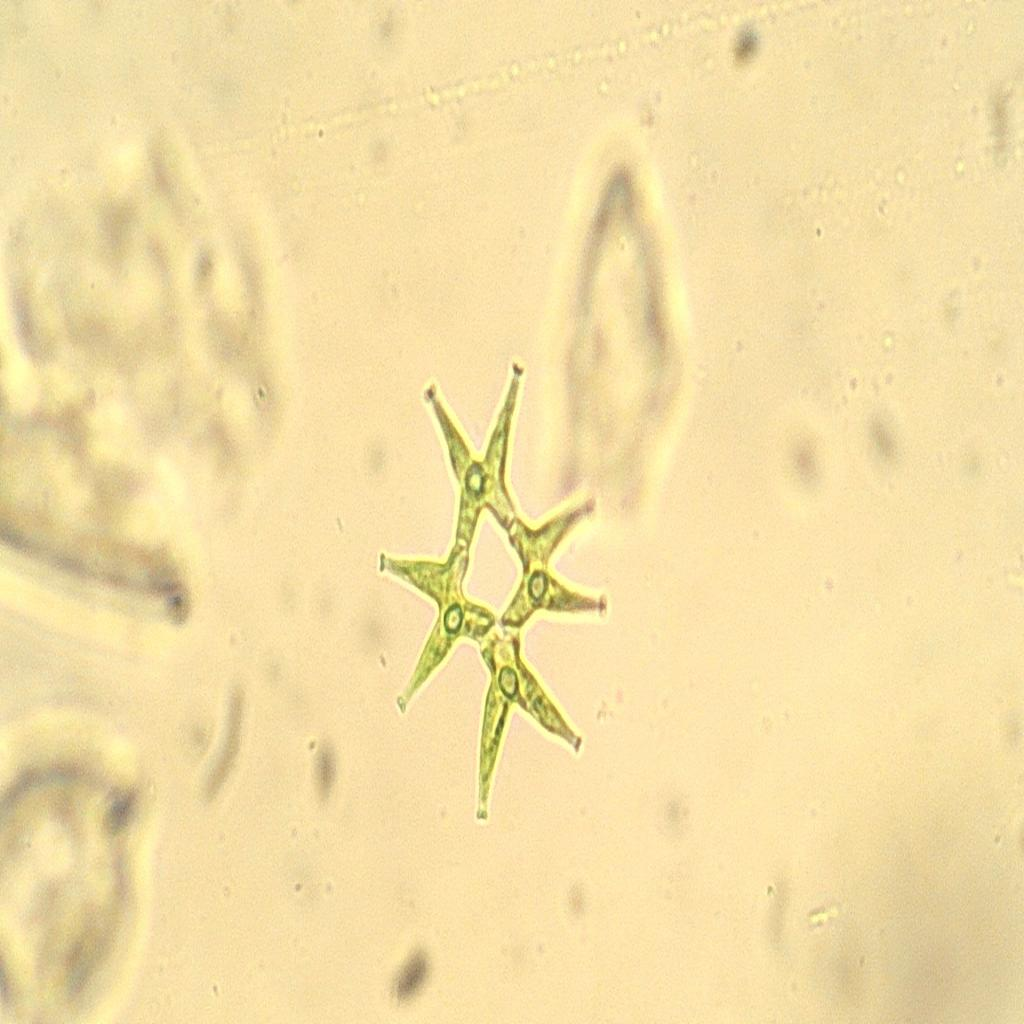Pediastrum_CT: (354, 346, 633, 842)
